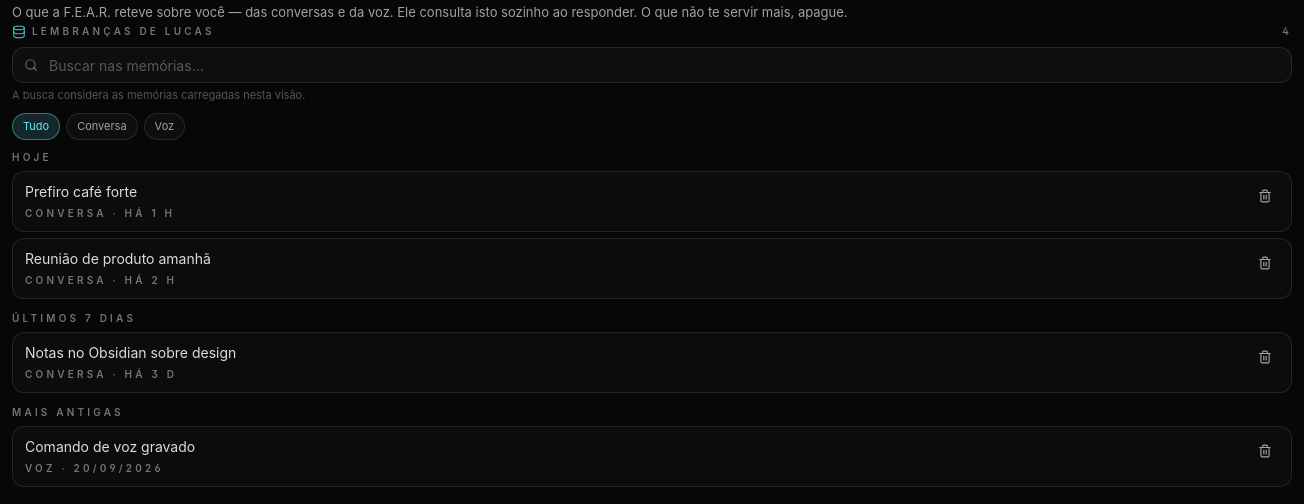
Test: MemoryTab — search, filters, grouping › filters the visible memories by text (accent-insensitive)
Expected: the text "Prefiro café forte" is shown, [25,182,137,200]
Type "cafe" into the field with placeholder "Buscar nas memórias…" at (652, 65), box [12,47,1292,83]
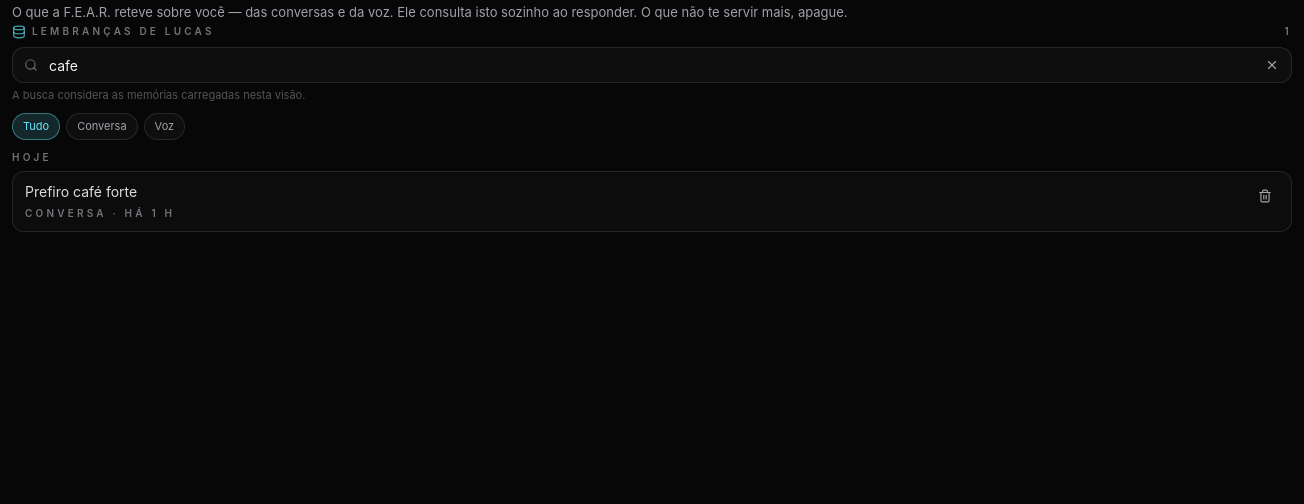
Expected: the text "Prefiro café forte" is shown, [25,182,137,200]
Expected: the text "Reunião de produto amanhã" is gone
Expected: the text "Comando de voz gravado" is gone
